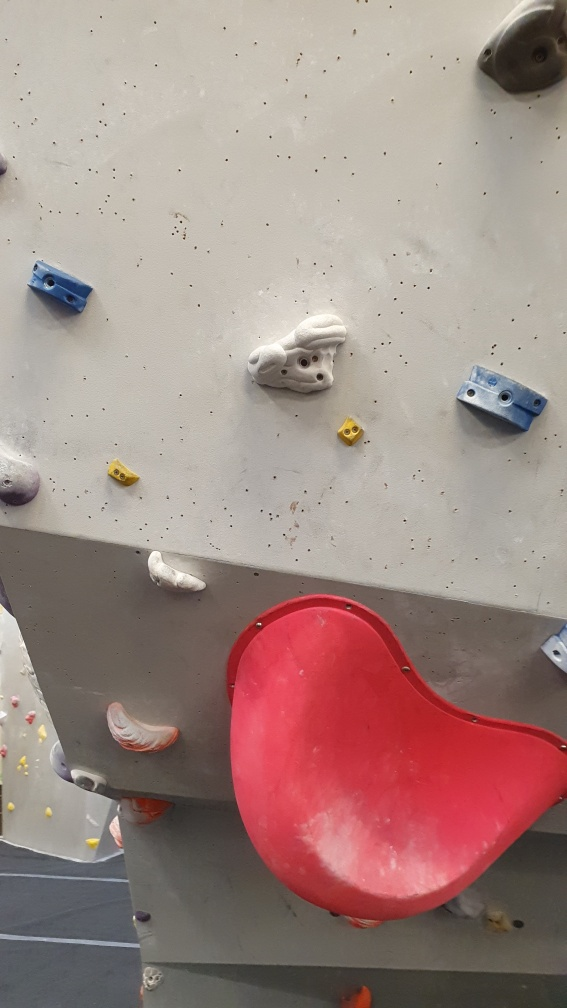Crimp: (103, 451, 145, 495)
Jug: (246, 310, 346, 399), (102, 695, 183, 759), (142, 544, 211, 600)
Pinch: (450, 360, 558, 435), (24, 255, 99, 319), (335, 415, 367, 448)
